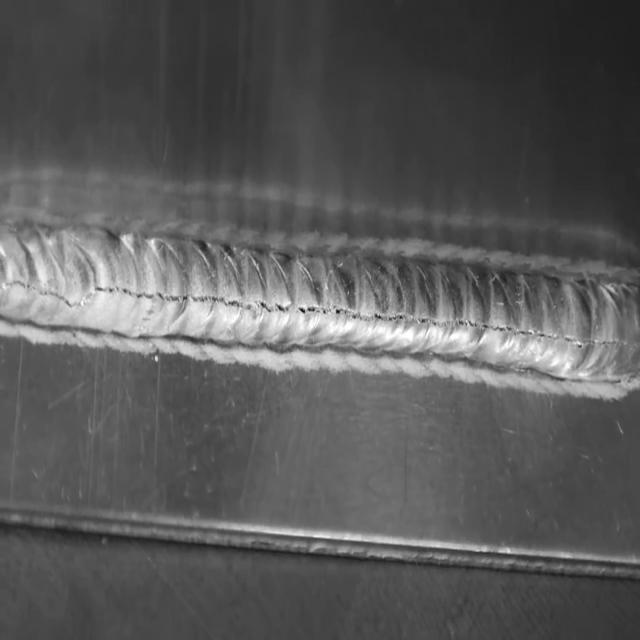Bad Weld: (0, 210, 638, 398)
Defect: (0, 266, 628, 356)
